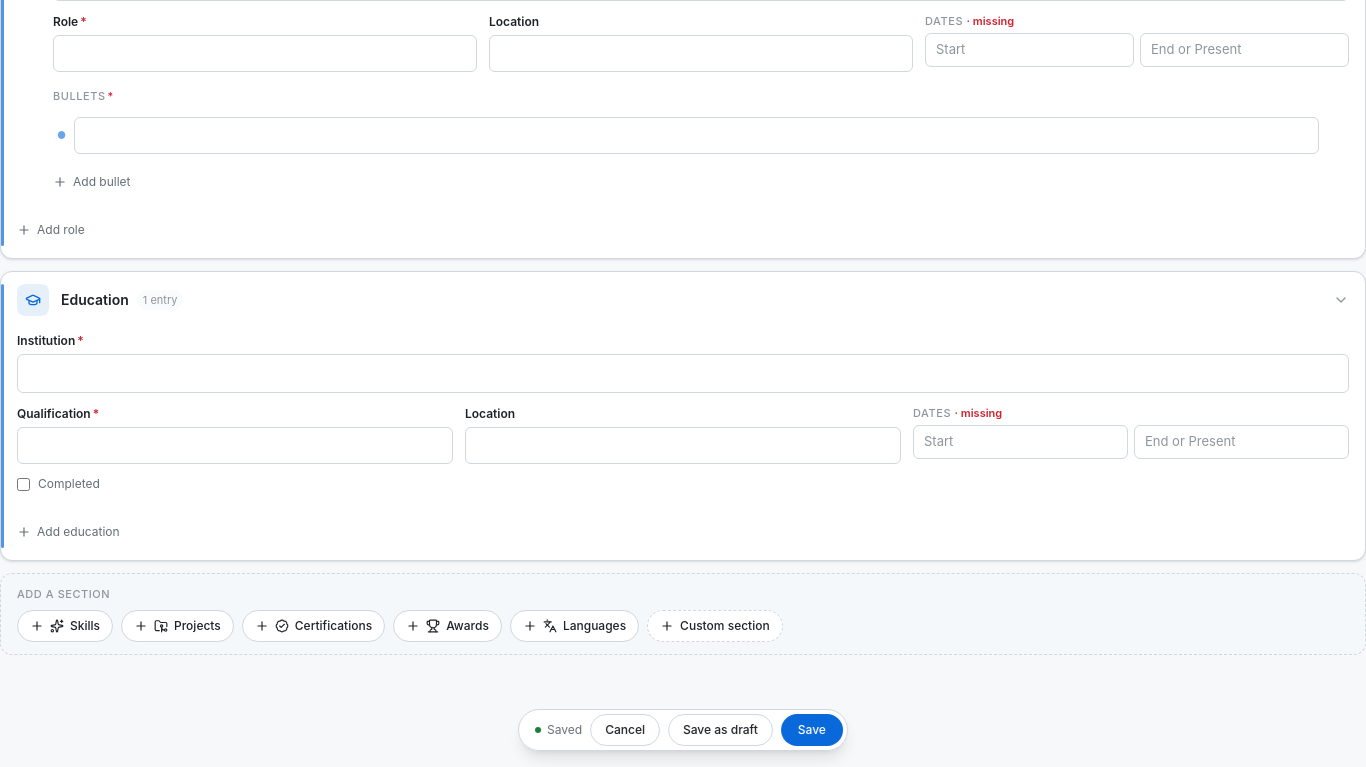
Scenario: Custom sections › closing the section reaches removeCustomSection
(page scrolled)
Click the button "Custom section".
click(715, 626)  # box left=647, top=610, right=783, bottom=642
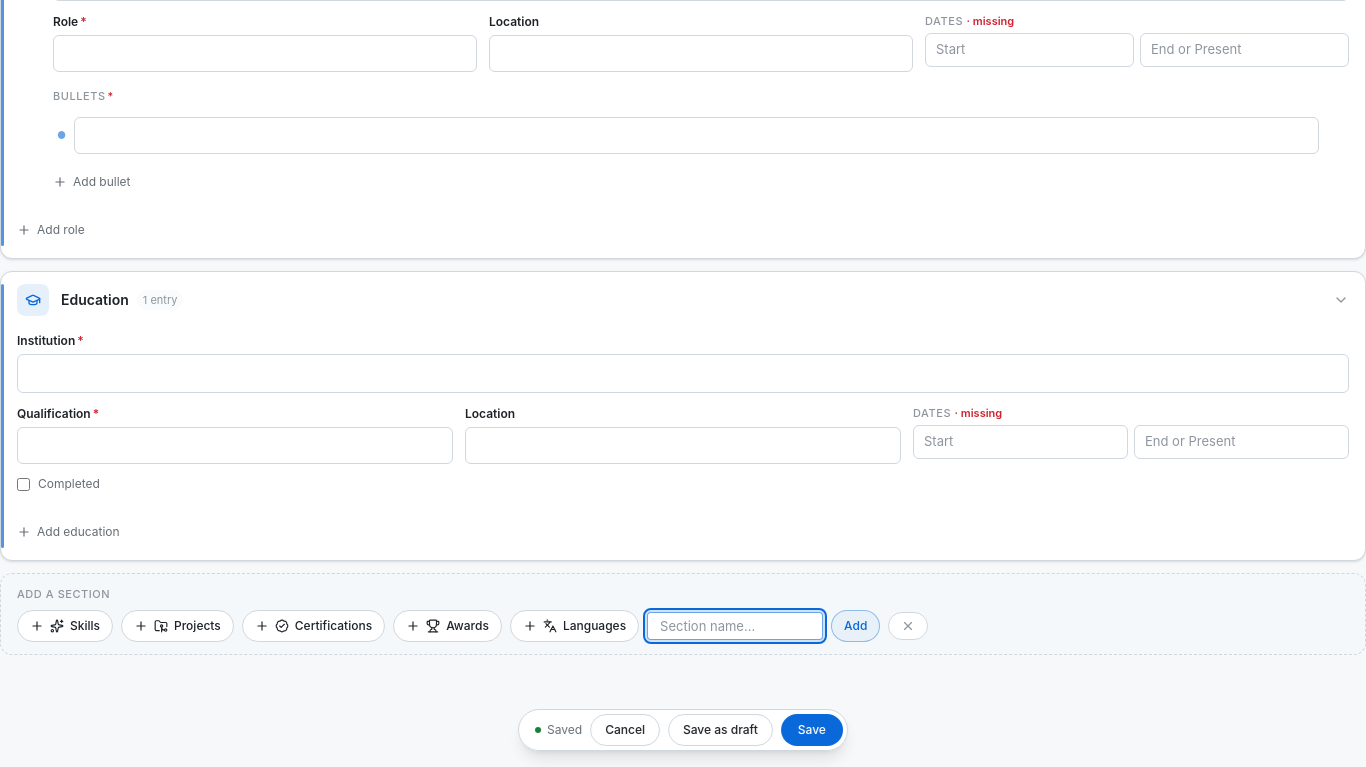
Type "Volunteering" into the field labelled "Section name".
click(735, 626); type("Volunteering")  # box left=647, top=612, right=823, bottom=640
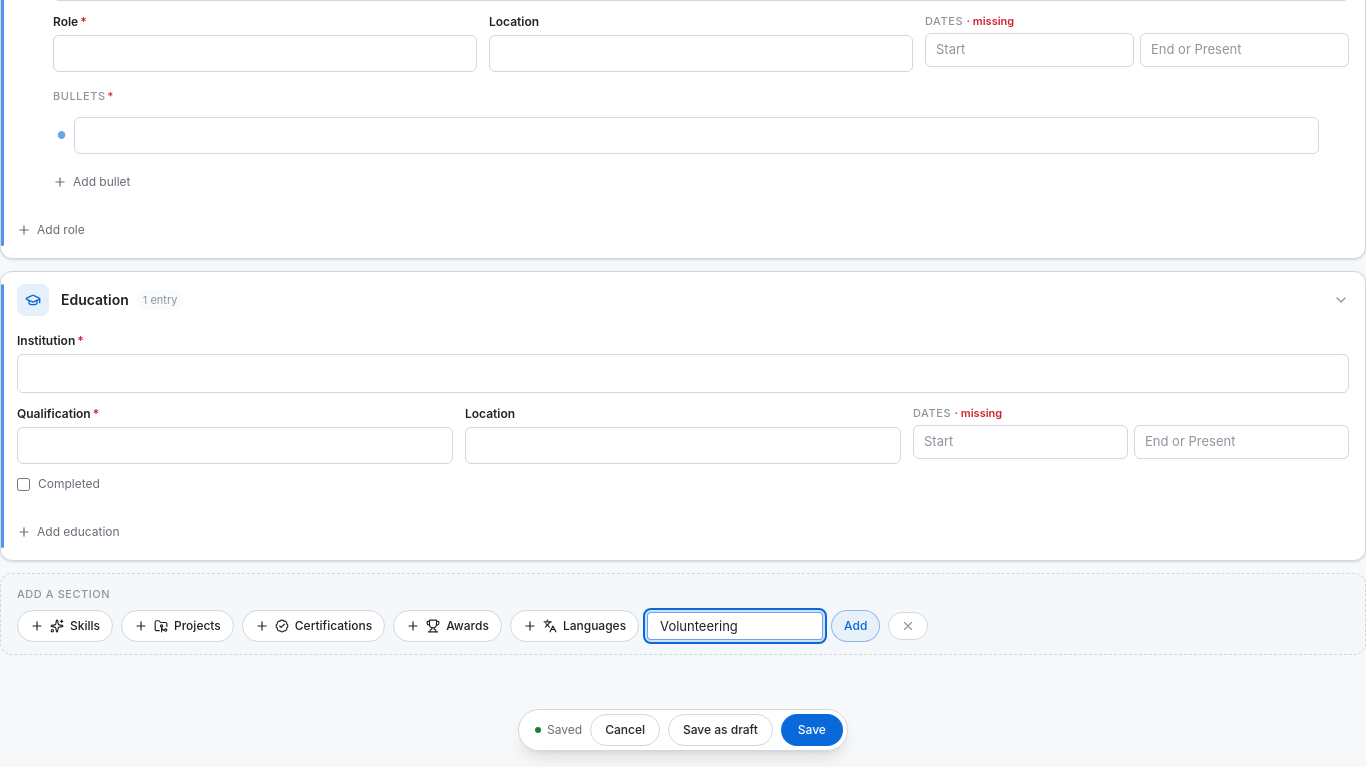
Press Enter in the field named "Section name", box left=647, top=612, right=823, bottom=640
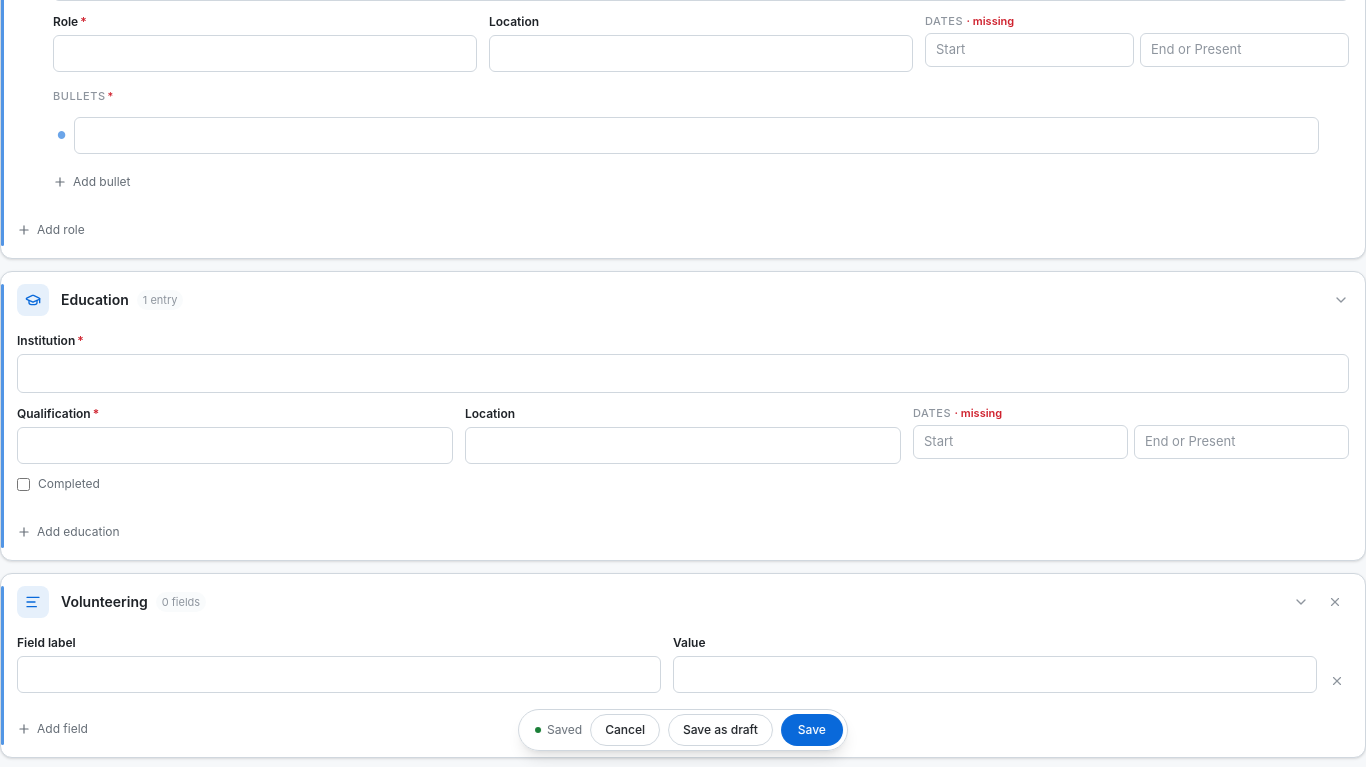
Click the button named "Remove Volunteering section".
click(1335, 602)  # box left=1321, top=588, right=1349, bottom=616
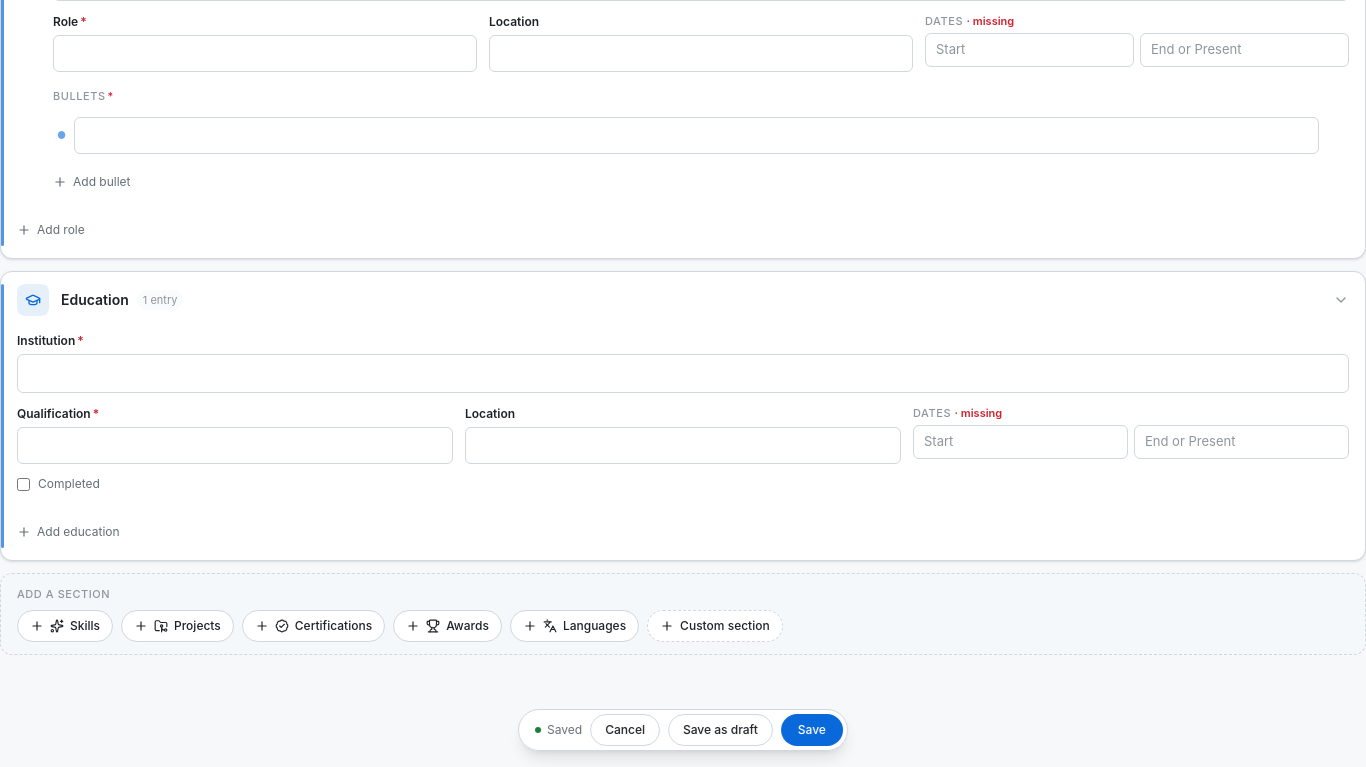
Expected: the button "Volunteering" is gone
